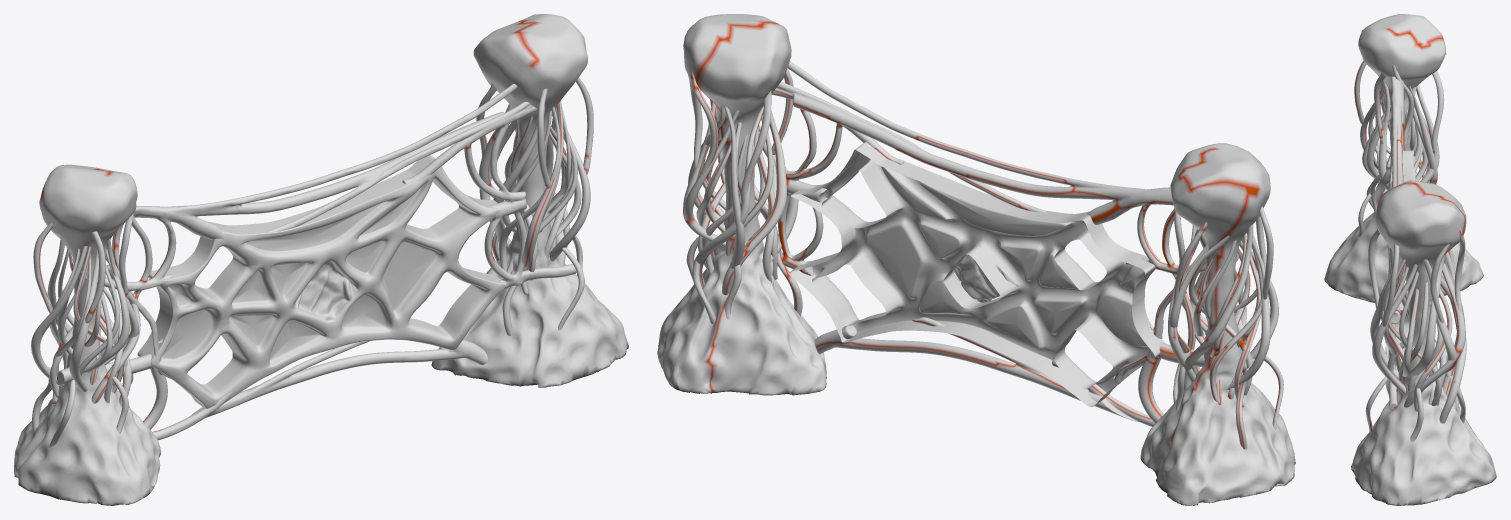
Rendered from SM_Trou4_low.fbx.
3 renders of one model, left to right at view 1: azimuth 30°, elevation 25°; view 2: azimuth 150°, elevation 25°; view 3: azimuth 270°, elevation 25°, orthographic. The views are drawn at different scales.
Parts seen in each view (by area): view 1: HolePillar_013_SeamsColor, polySurface5, PM3D_Cylinder3D1_3_SeamsColor, HolePillar_089; view 2: HolePillar_013_SeamsColor, polySurface5, PM3D_Cylinder3D1_3_SeamsColor, HolePillar_089; view 3: HolePillar_013_SeamsColor, PM3D_Cylinder3D1_3_SeamsColor, polySurface5.
Boxes of the visible parts, x1,y1,x2,y2 form: HolePillar_013_SeamsColor: (14, 14, 628, 505); polySurface5: (137, 155, 505, 408); PM3D_Cylinder3D1_3_SeamsColor: (57, 84, 576, 440); HolePillar_089: (294, 261, 357, 322); HolePillar_013_SeamsColor: (657, 14, 1295, 505); polySurface5: (789, 142, 1165, 407); PM3D_Cylinder3D1_3_SeamsColor: (771, 61, 1254, 426); HolePillar_089: (953, 243, 1018, 302); HolePillar_013_SeamsColor: (1324, 14, 1496, 505); PM3D_Cylinder3D1_3_SeamsColor: (1388, 76, 1404, 410); polySurface5: (1385, 150, 1415, 394).
Size of the model in its own units: 3490 by 1817 by 1006.
